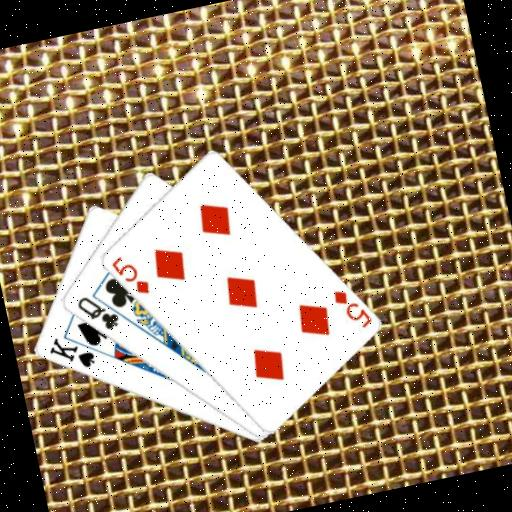5D: (328, 281, 375, 335), (106, 248, 152, 302)
KS: (42, 327, 98, 377)
QC: (71, 287, 122, 338)
